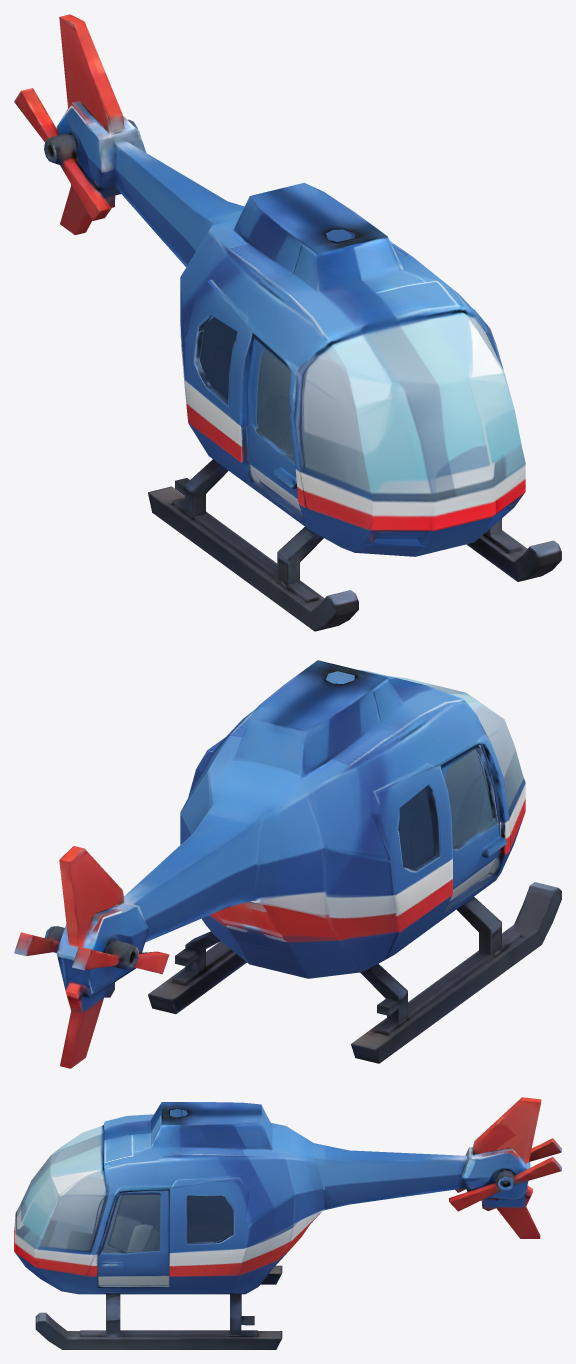
The model's file is vain_body.glb.
3 views of the same model, one above another, from view 1: azimuth 30°, elevation 25°; view 2: azimuth 150°, elevation 25°; view 3: azimuth 270°, elevation 25° (orthographic). The views are drawn at different scales.
Visible parts, largest first — view 1: model; view 2: model; view 3: model.
Part boxes in pixels (<box>): model: <box>14,14,561,631</box>; model: <box>14,660,561,1068</box>; model: <box>14,1097,561,1349</box>.
Size of the model in its own units: 0.5159 by 0.7069 by 1.64.
1 material, 1 textured.
